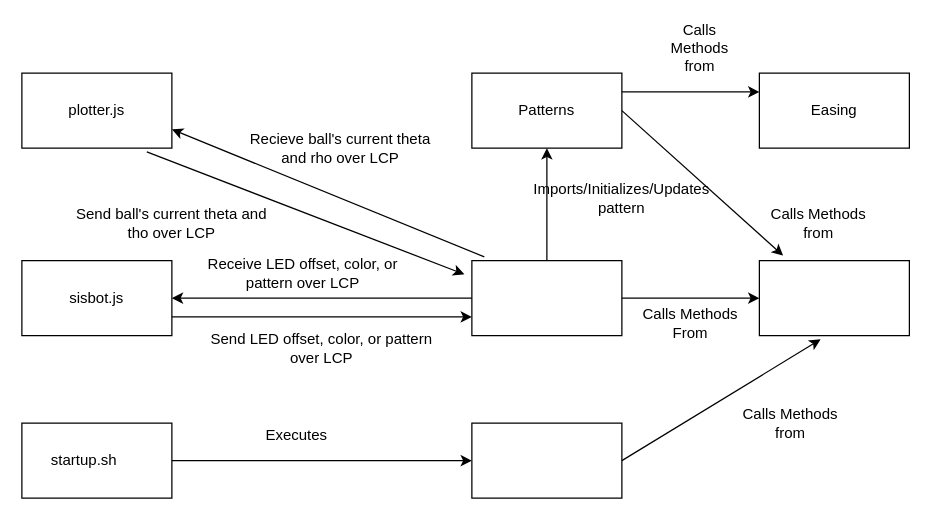
Image size: 931x520. Some labels were removed from this diagram. Here are the shapes that lost their labels. From the top down, the centre of each, then its label:
point 546,297: led_main.py
point 833,297: Color Functions
point 546,460: led_startup.py
